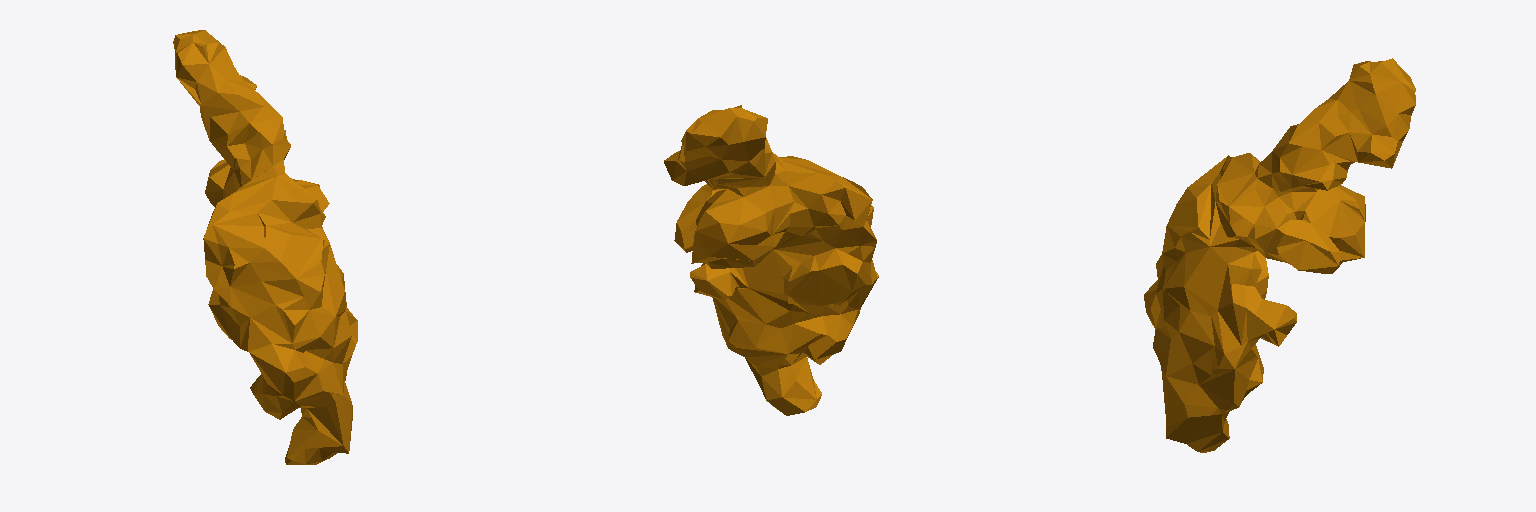
The picture shows the model from 3 angles: view 1: azimuth 30°, elevation 25°; view 2: azimuth 150°, elevation 25°; view 3: azimuth 270°, elevation 25°; orthographic projection.
Parts seen in each view (by area): view 1: Polygonal_Model_14_Triangles_0; view 2: Polygonal_Model_14_Triangles_0; view 3: Polygonal_Model_14_Triangles_0.
Boxes of the visible parts, box(x1,y1,x2,y2) form: Polygonal_Model_14_Triangles_0: box(173, 30, 357, 464); Polygonal_Model_14_Triangles_0: box(664, 105, 878, 415); Polygonal_Model_14_Triangles_0: box(1144, 58, 1415, 452).
Bounding box in the file's own units: 1.48 × 3.37 × 2.22.